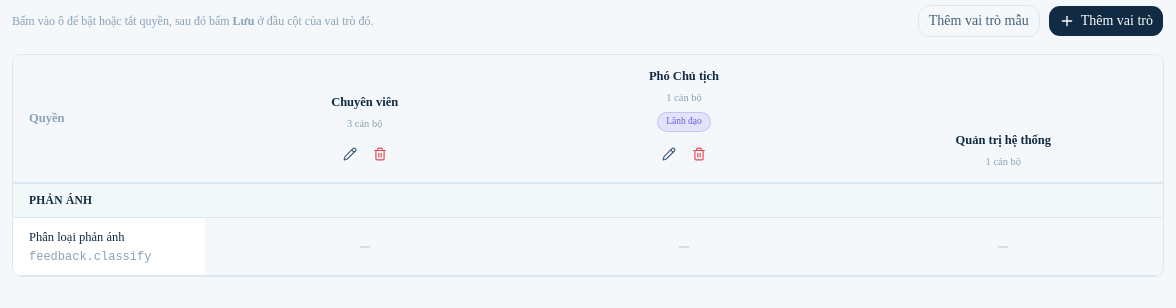
role-list actions — who sees them › unsaved ticks disable every role action, so a reload cannot drop them
The image size is (1176, 308).
Click the button named "Chuyên viên — Phân loại phản ánh" at (365, 246), box [351, 232, 379, 260]
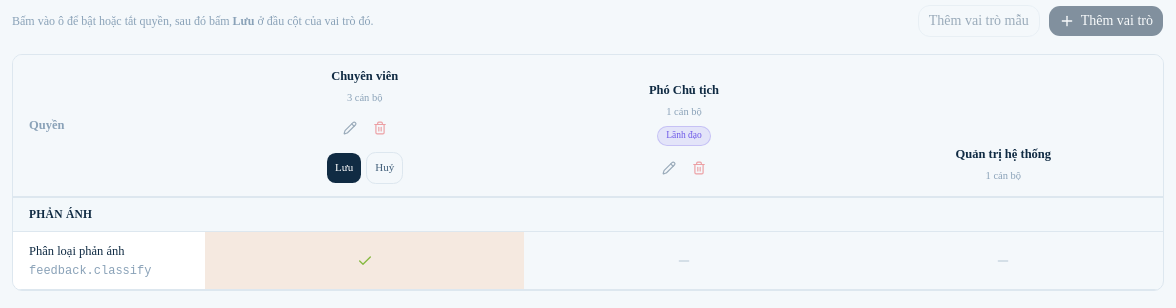
Result: the button "Thêm vai trò" is disabled at [1048, 5, 1164, 37]
Result: the button "Thêm vai trò mẫu" is disabled at [918, 5, 1040, 37]
Result: the button named "Xoá vai trò Phó Chủ tịch" is disabled at [685, 152, 713, 184]
